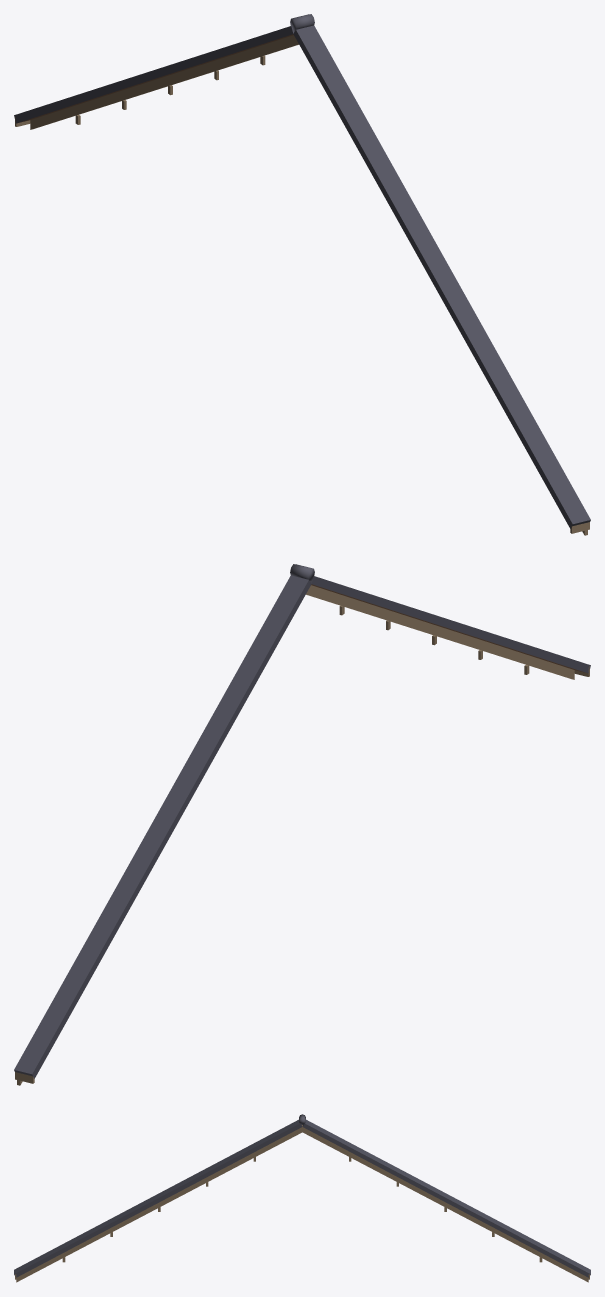
File: kit_clapboard_slate_w11_end.glb
The picture shows the model from 3 angles, top to bottom: view 1: azimuth 30°, elevation 25°; view 2: azimuth 150°, elevation 25°; view 3: azimuth 270°, elevation 25°; orthographic projection. The views are drawn at different scales.
Parts seen in each view (by area): view 1: kit_clapboard_slate_w11_end; view 2: kit_clapboard_slate_w11_end; view 3: kit_clapboard_slate_w11_end.
Boxes of the visible parts, box(x1,y1,x2,y2) form: kit_clapboard_slate_w11_end: box(14, 14, 590, 535); kit_clapboard_slate_w11_end: box(14, 564, 590, 1085); kit_clapboard_slate_w11_end: box(14, 1114, 590, 1282).
Size of the model in its own units: 0.22 by 3.67 by 11.69.
